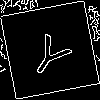Y: (25, 25, 79, 83)
